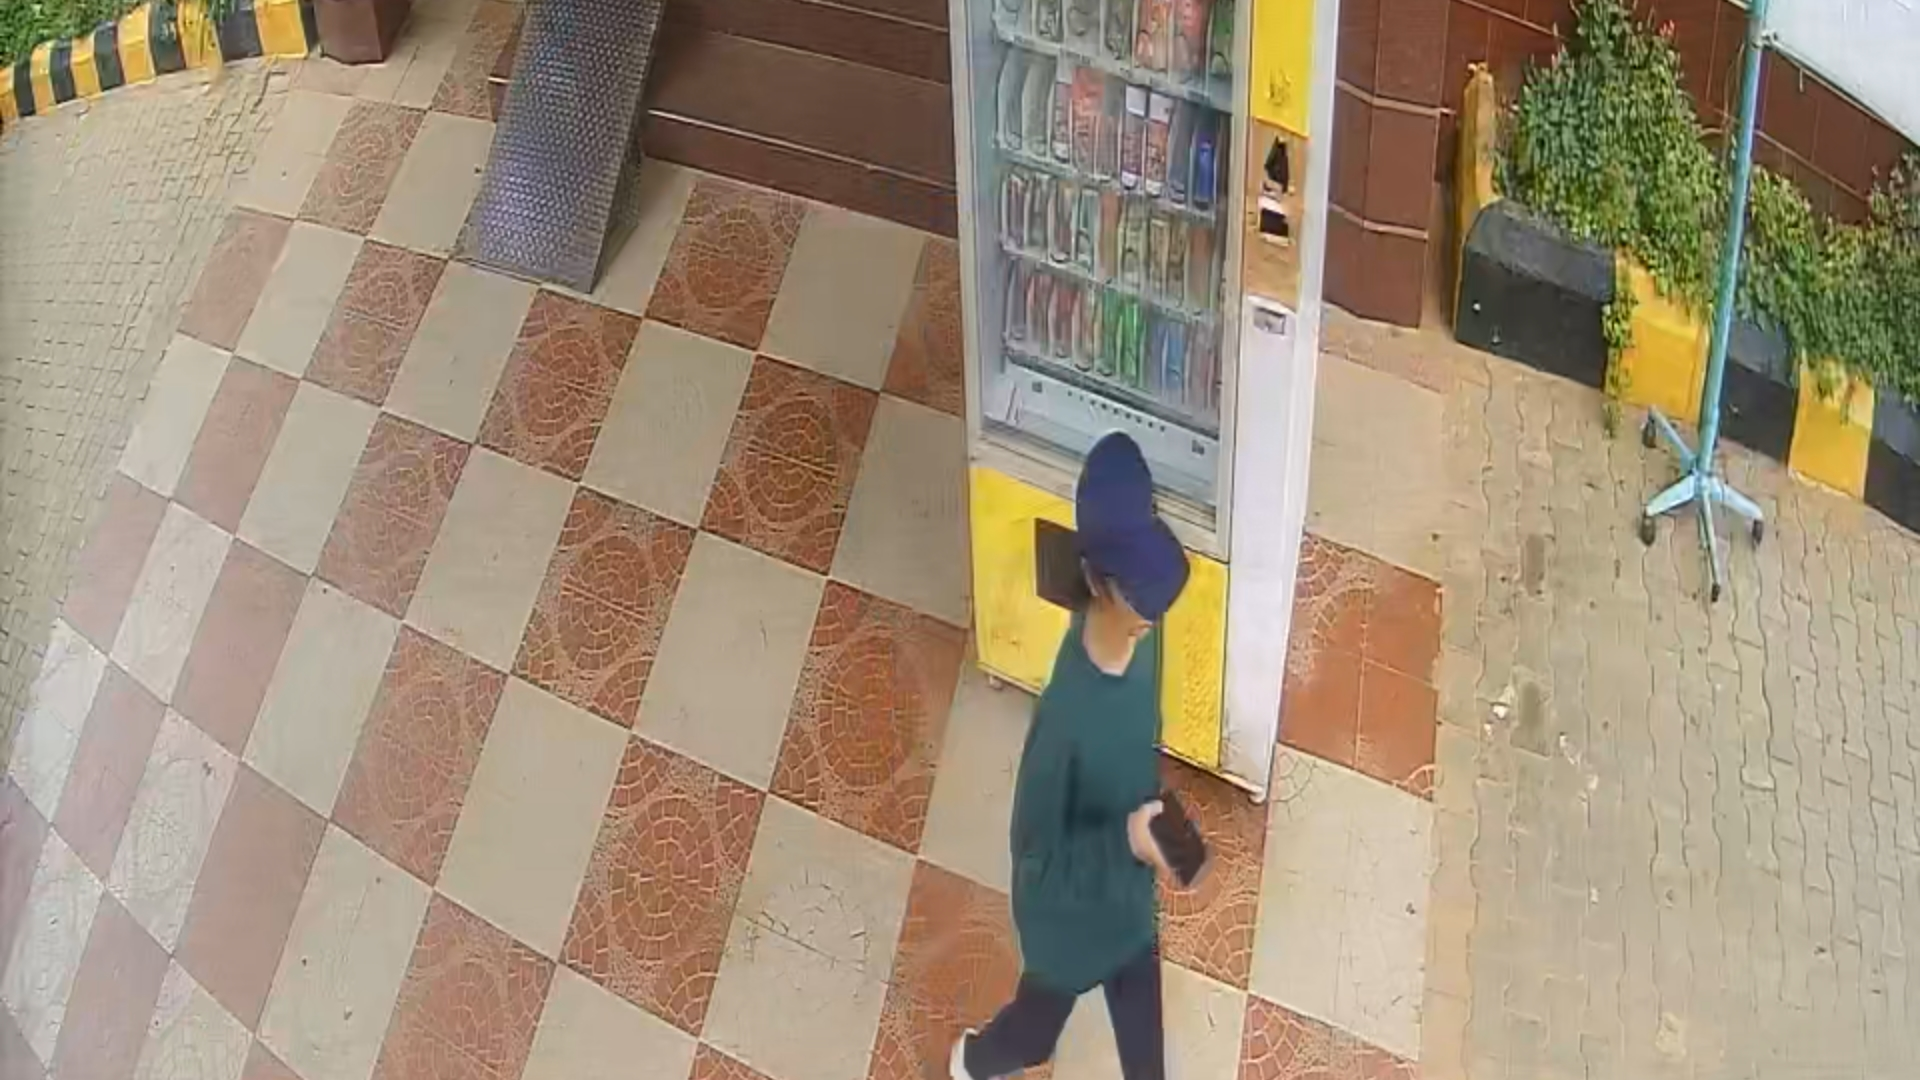intruder: (981, 431, 1197, 1080)
